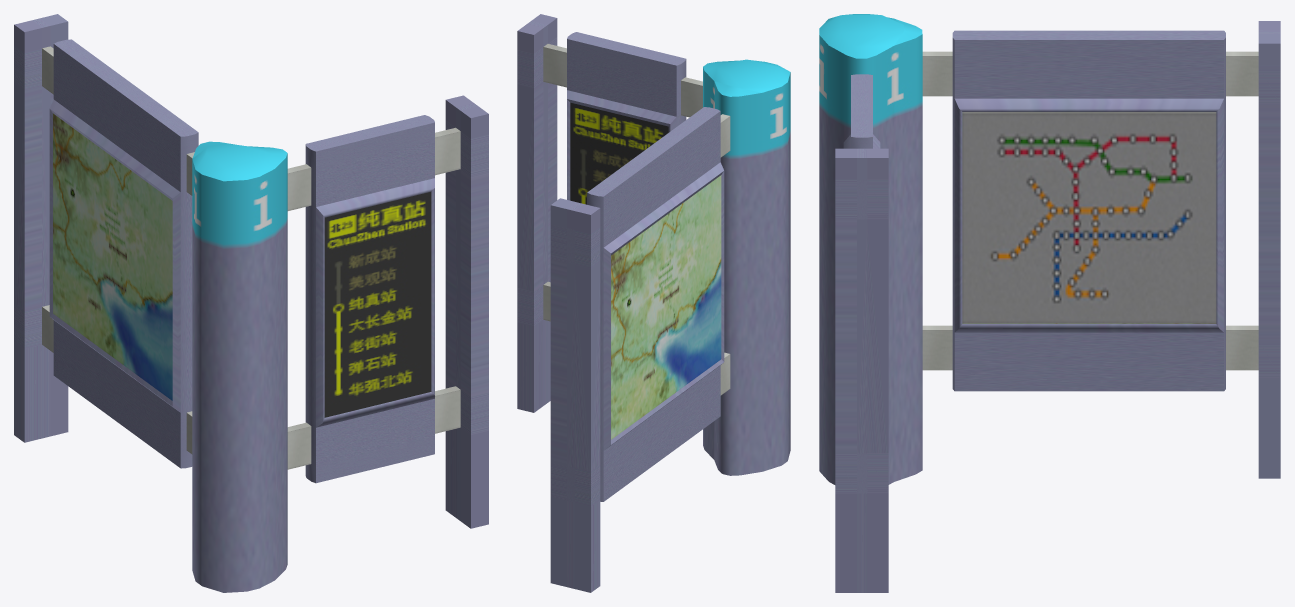
The model's file is obj_trainMap.fbx.
The picture shows the model from 3 angles, left to right: view 1: azimuth 30°, elevation 25°; view 2: azimuth 150°, elevation 25°; view 3: azimuth 270°, elevation 25°; orthographic projection. The views are drawn at different scales.
Visible parts, largest first — view 1: pCube83; view 2: pCube83; view 3: pCube83.
Part boxes in pixels (x1,y1,x2,y2): pCube83: [14, 14, 488, 592]; pCube83: [517, 14, 790, 592]; pCube83: [819, 14, 1280, 592].
Bounding box in the file's own units: 3.51 × 5.06 × 4.76.
1 material, 1 textured.
